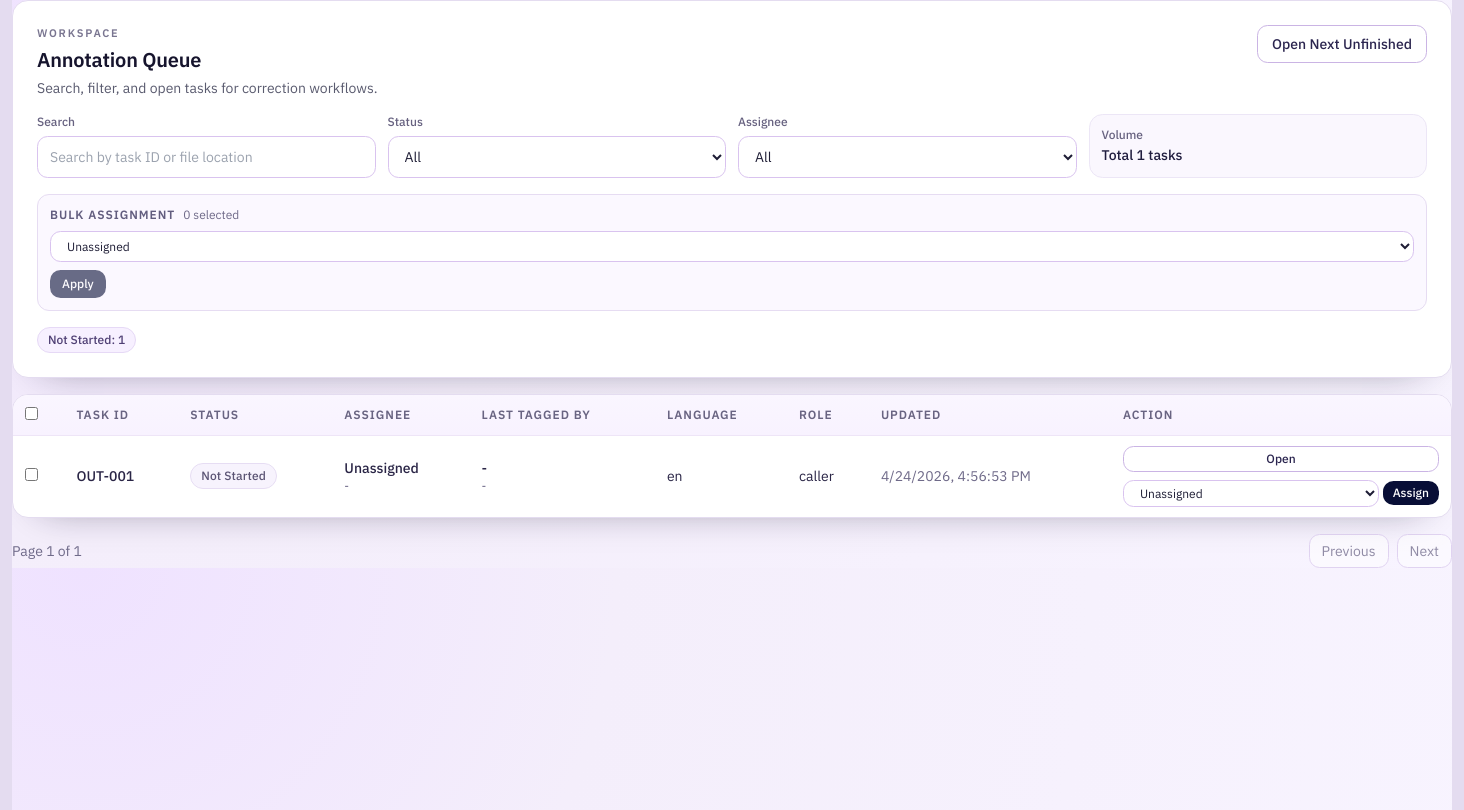
it: TasksPage queue workflows › bulk assigns selected tasks with their current versions
The image size is (1464, 810).
Expected: the text "OUT-001" is shown, [64,435,178,516]
Click the checkbox named "Select task OUT-001": click(32, 474) [25,468,38,481]
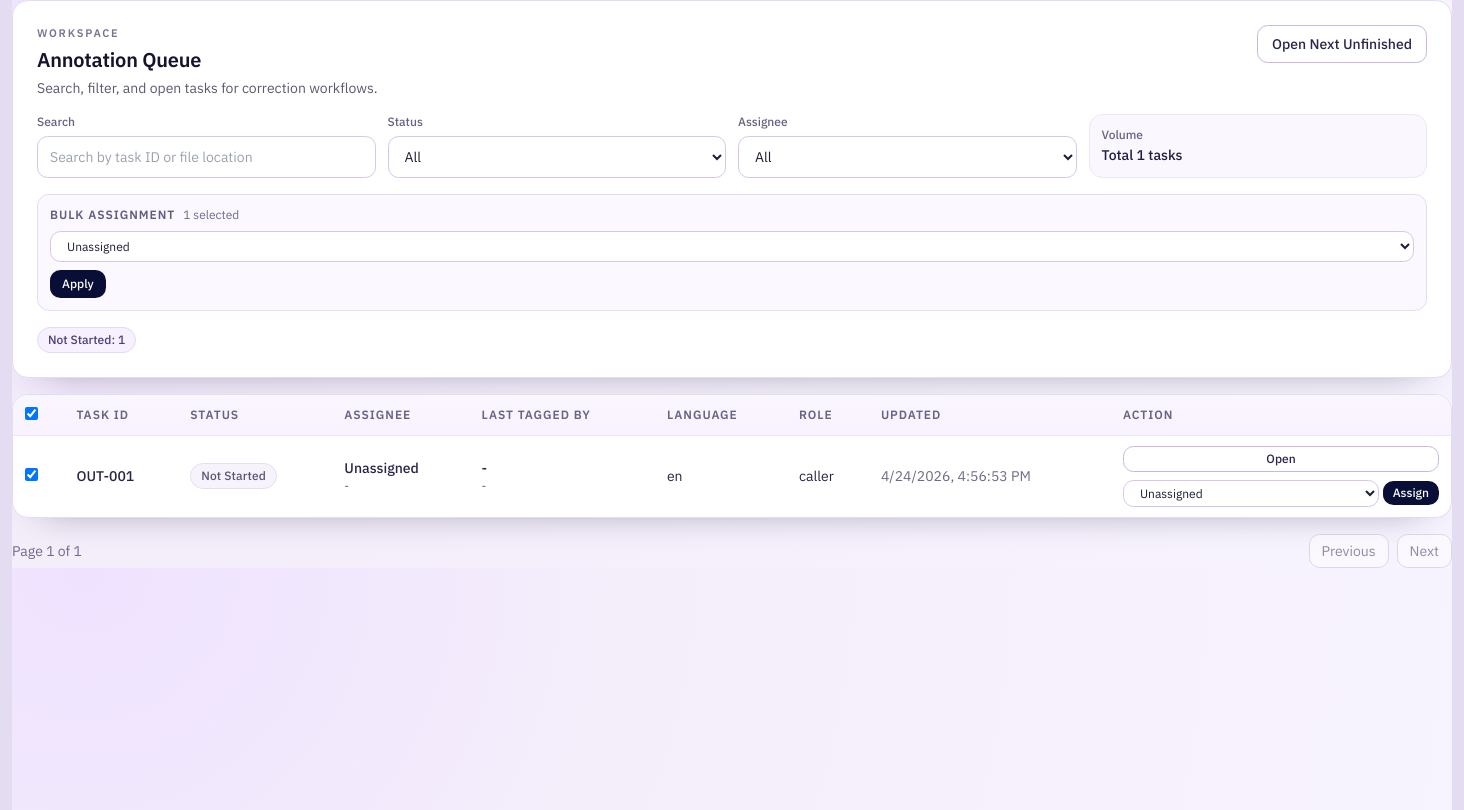
Select "Reviewer (REVIEWER)" in the dropdown named "Bulk assignee": (732, 246) [50,230,1414,262]
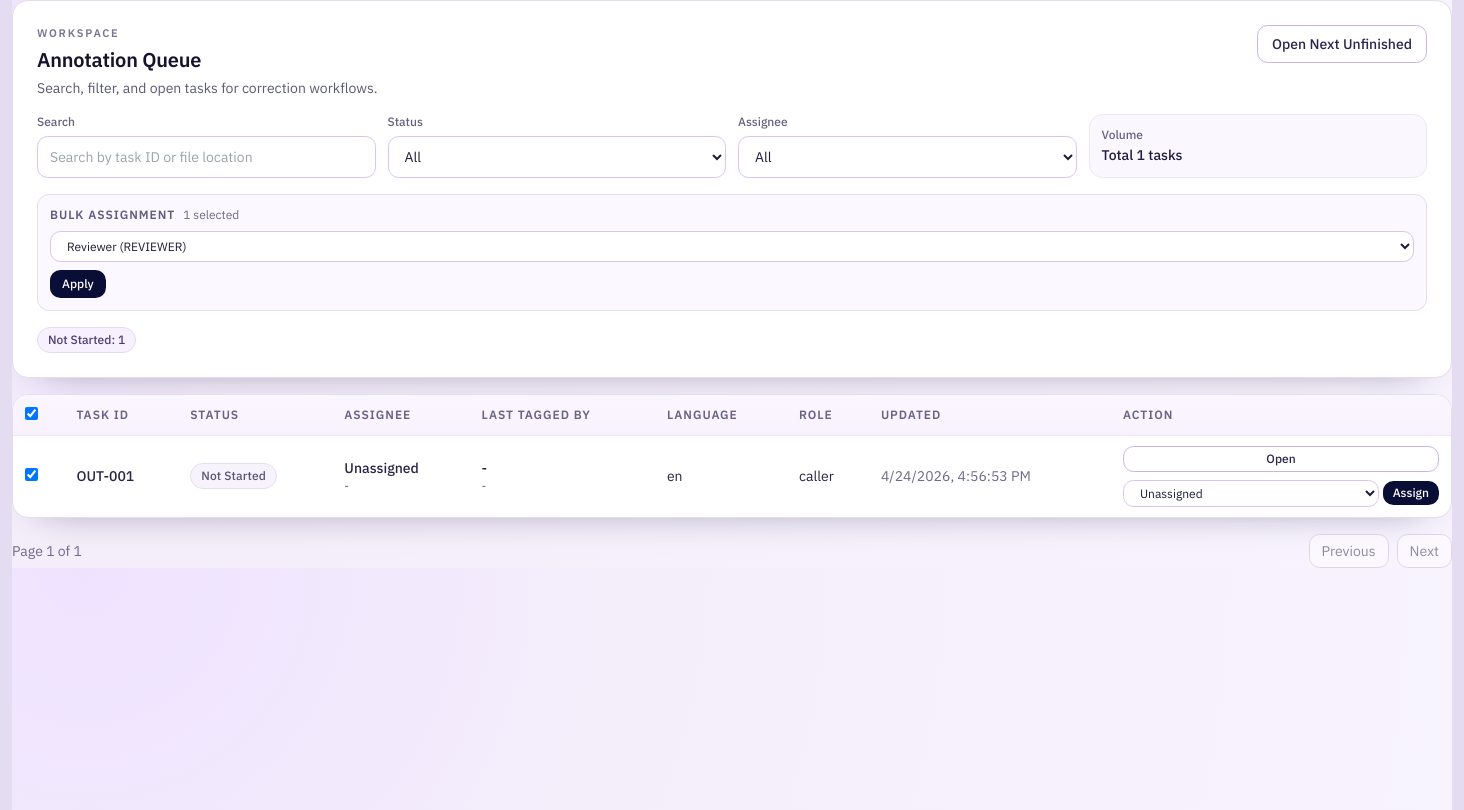
Click the button "Apply": click(78, 284) [50,270,106,298]
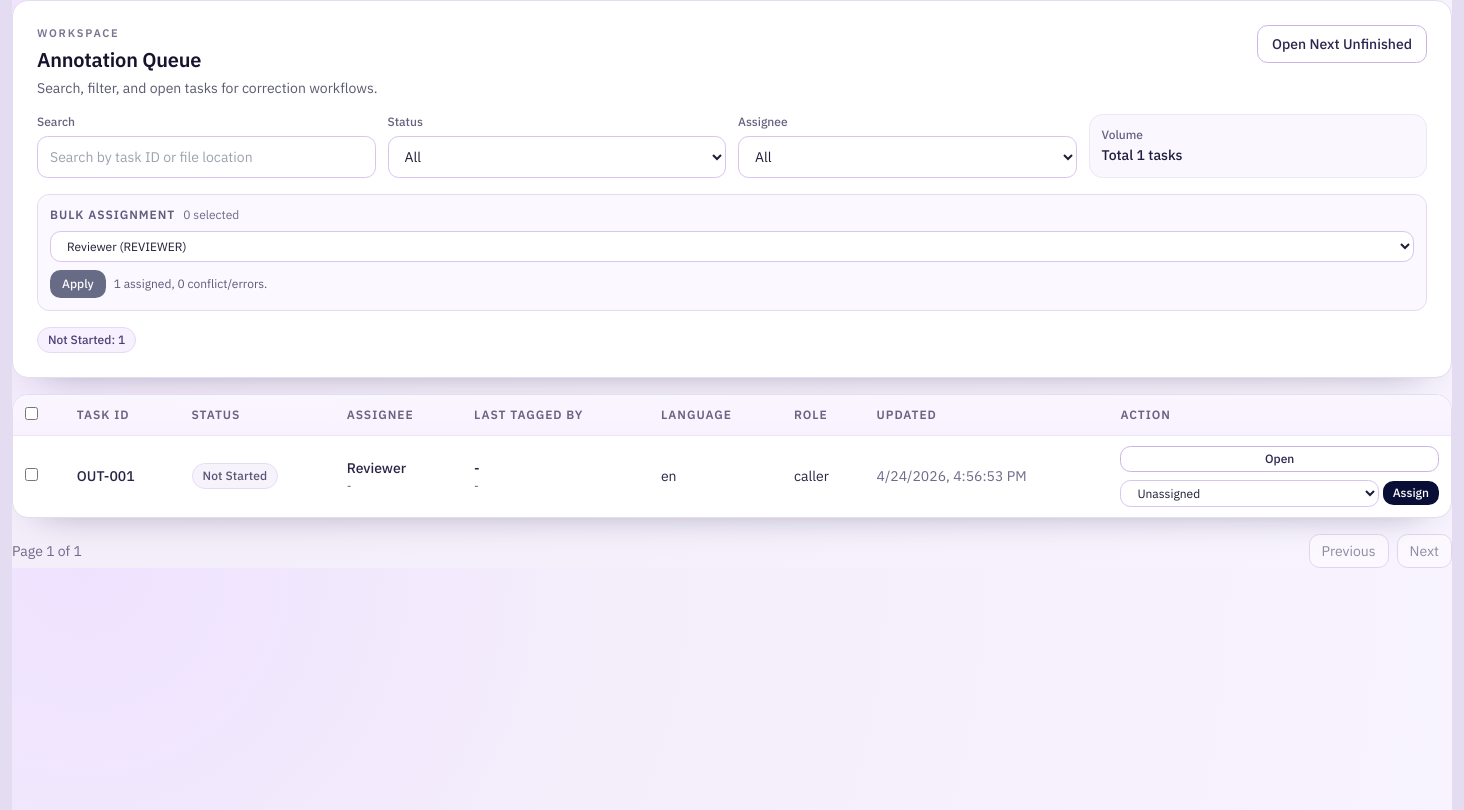
Expected: the text "1 assigned, 0 conflict/errors." is shown, [114,276,267,292]
